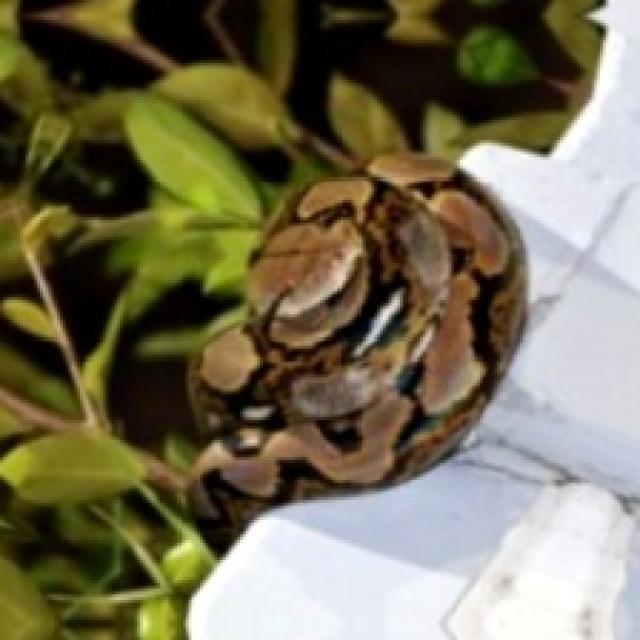reticulated python: (189, 154, 526, 546)
